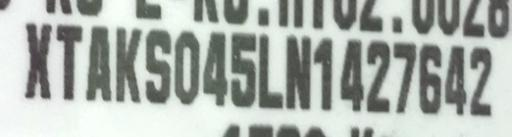letter: (52, 21, 86, 100), (21, 19, 53, 100), (112, 25, 144, 102), (226, 31, 256, 108), (172, 30, 202, 105), (144, 25, 172, 104), (256, 31, 284, 110), (86, 21, 112, 102), (283, 35, 311, 110), (337, 37, 365, 112), (441, 43, 469, 114), (202, 30, 228, 105), (313, 35, 337, 112), (366, 37, 390, 112), (470, 42, 494, 117), (392, 40, 416, 113), (418, 40, 440, 113)
